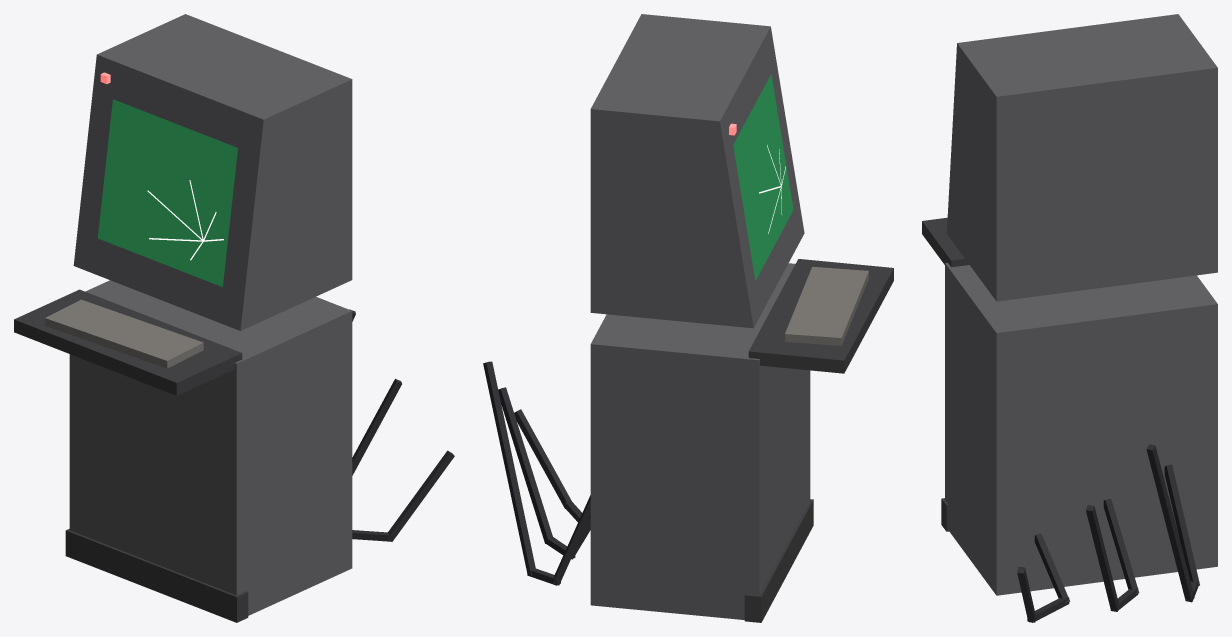
Rendered from black_market_terminal.glb.
3 renders of one model, left to right at view 1: azimuth 30°, elevation 25°; view 2: azimuth 150°, elevation 25°; view 3: azimuth 270°, elevation 25°, orthographic.
Visible parts, largest first — view 1: Base, Head, Screen, Shelf, Kick, Keyboard, Cables; view 2: Base, Head, Screen, Shelf, Cables, Keyboard, Kick; view 3: Base, Head, Cables, Shelf.
Boxes of the visible parts, x1,y1,x2,y2 form: Base: [69, 280, 352, 615]; Head: [73, 14, 352, 330]; Screen: [97, 99, 237, 287]; Shelf: [14, 289, 242, 395]; Kick: [65, 529, 248, 622]; Keyboard: [45, 299, 203, 368]; Cables: [349, 309, 454, 541]; Base: [590, 263, 810, 619]; Head: [590, 14, 804, 328]; Screen: [733, 74, 793, 280]; Shelf: [748, 259, 893, 373]; Cables: [483, 361, 590, 585]; Keyboard: [785, 266, 868, 345]; Kick: [744, 499, 813, 622]; Base: [945, 262, 1217, 595]; Head: [946, 14, 1217, 301]; Cables: [1017, 444, 1199, 622]; Shelf: [922, 217, 969, 267].
Bounding box in the file's own units: 1.56 × 1.9 × 1.02.
